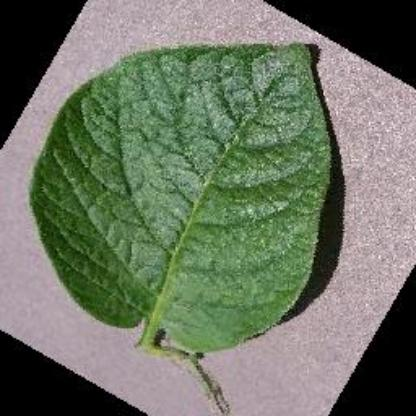Healthy-plant: (16, 28, 349, 379)
